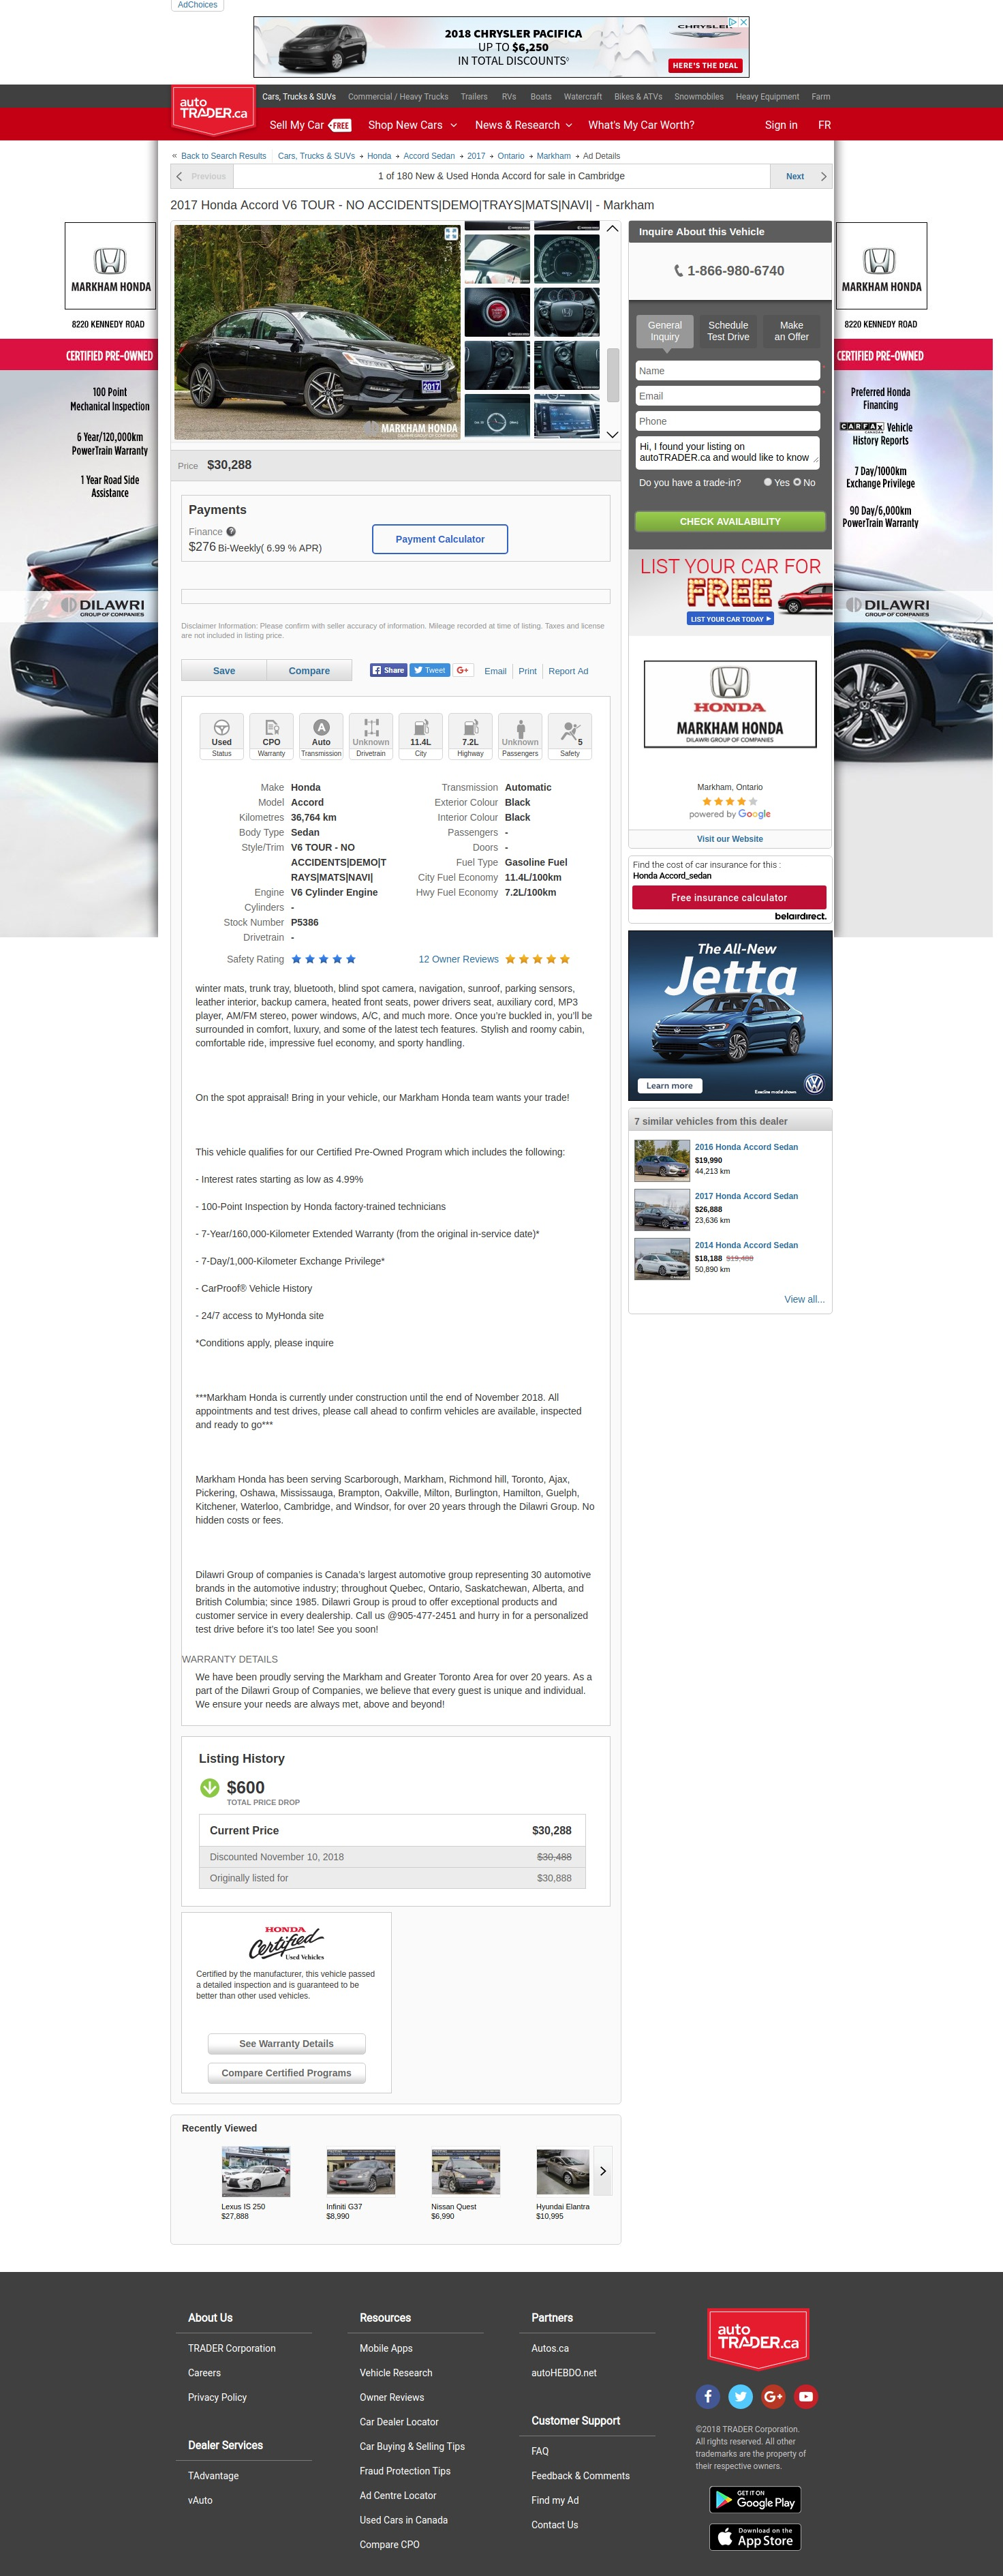car: (606, 430, 621, 440)
